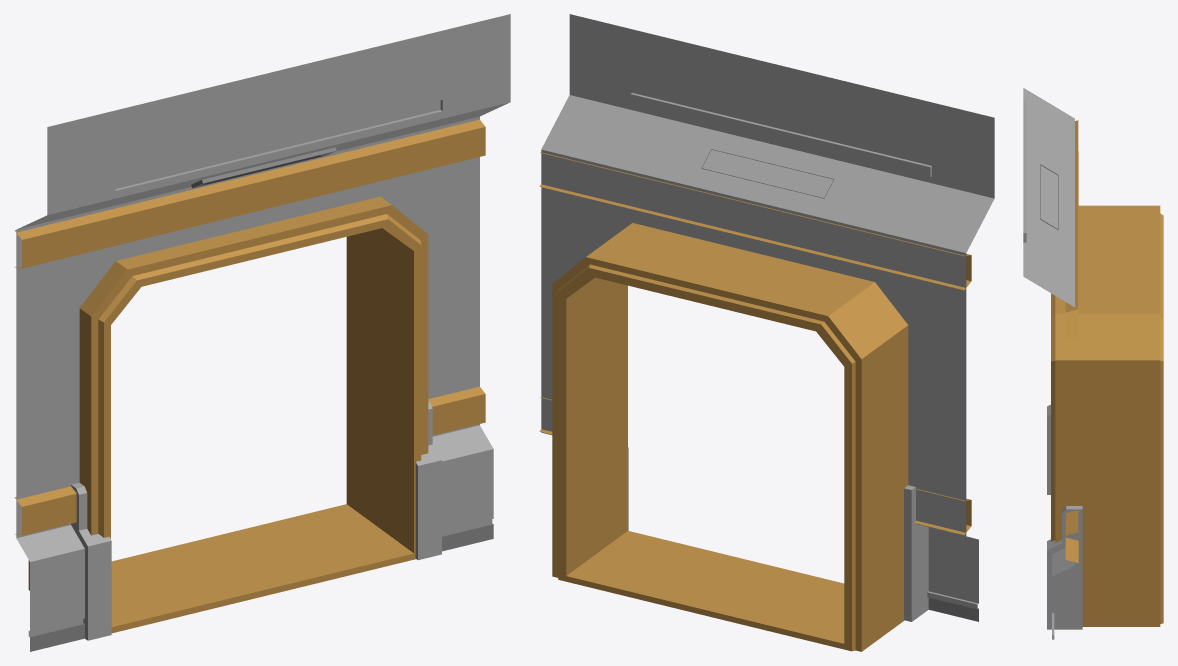
The model's file is DoorDouble_Wall_SideA.fbx.
3 renders of one model, left to right at view 1: azimuth 30°, elevation 25°; view 2: azimuth 150°, elevation 25°; view 3: azimuth 270°, elevation 25°, orthographic. The views are drawn at different scales.
Parts seen in each view (by area): view 1: DoorDouble_Wall_SideA; view 2: DoorDouble_Wall_SideA; view 3: DoorDouble_Wall_SideA.
Boxes of the visible parts, bbox=[...] form: DoorDouble_Wall_SideA: bbox=[14, 14, 510, 651]; DoorDouble_Wall_SideA: bbox=[539, 14, 994, 651]; DoorDouble_Wall_SideA: bbox=[1023, 88, 1163, 639].
Bounding box in the file's own units: 4 × 4.44 × 1.25.
